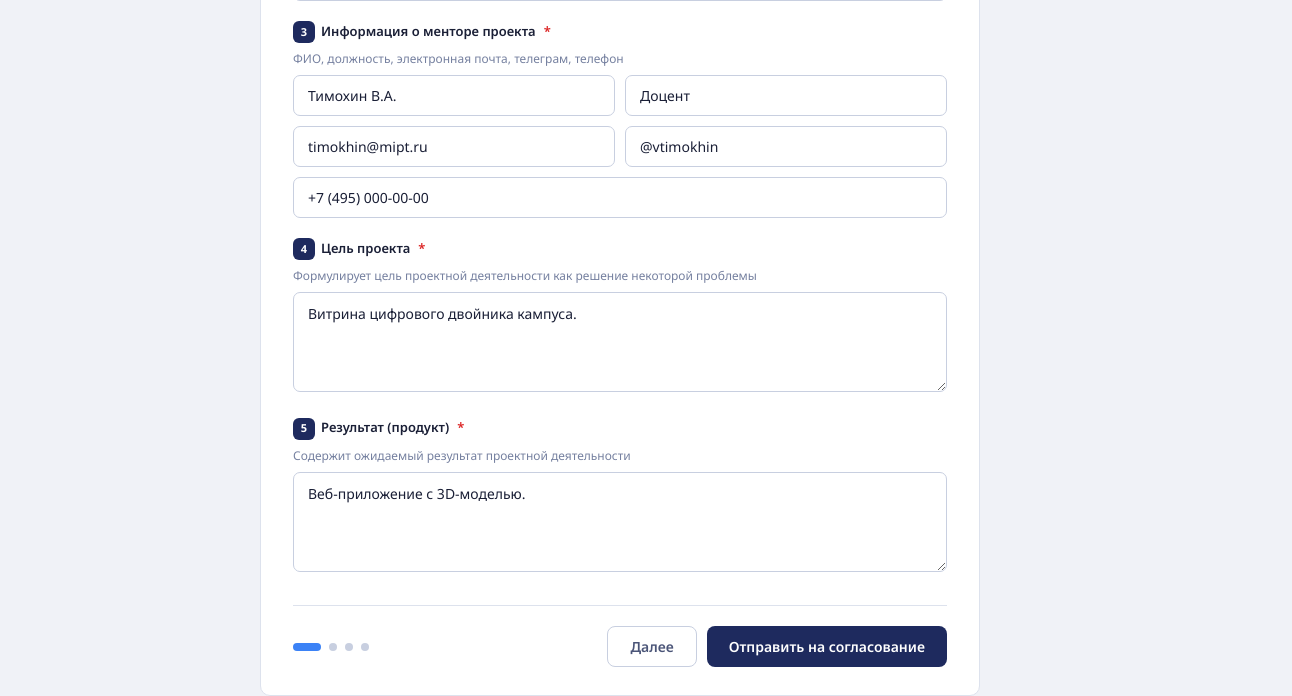
Test case: MentorProjectInfoPage › submit на section 3 вызывает submitProjectChangeRequest и показывает toast
(page scrolled)
Click the button with test id "form-save" at (827, 646), box [707,626,947,667]
(page scrolled)
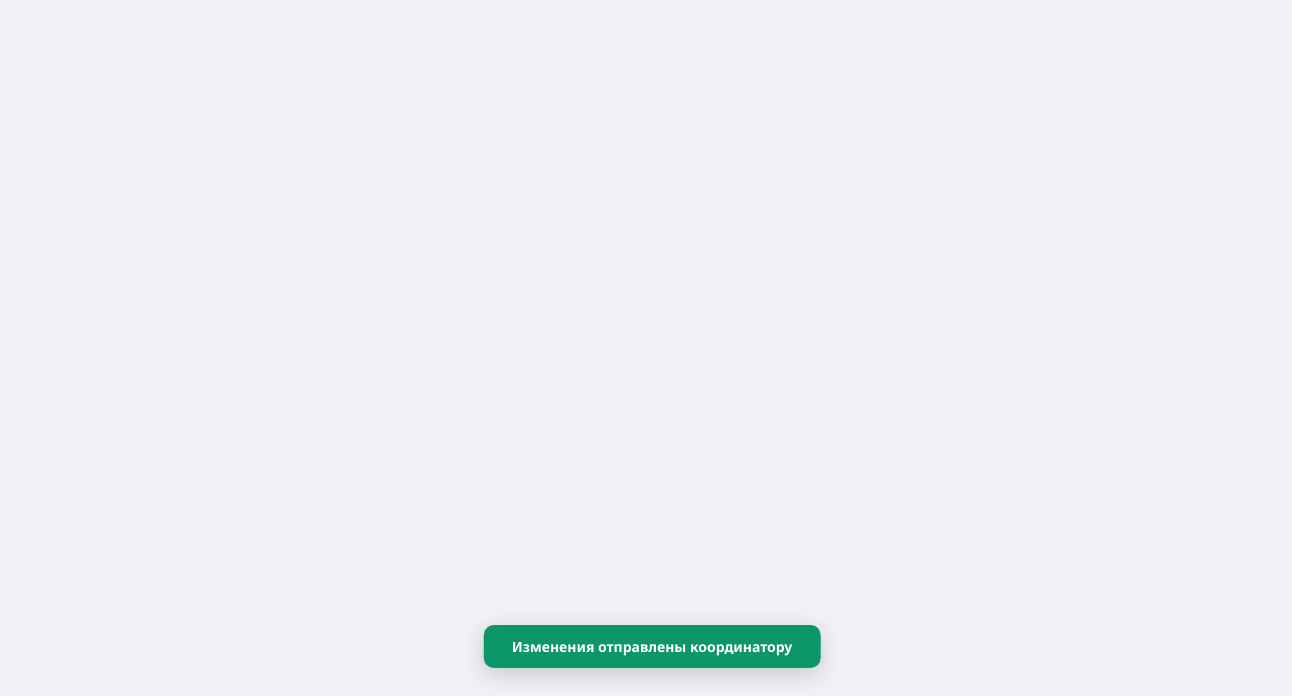
Expected: the text "Изменения отправлены координатору" is shown, [484,625,820,668]
